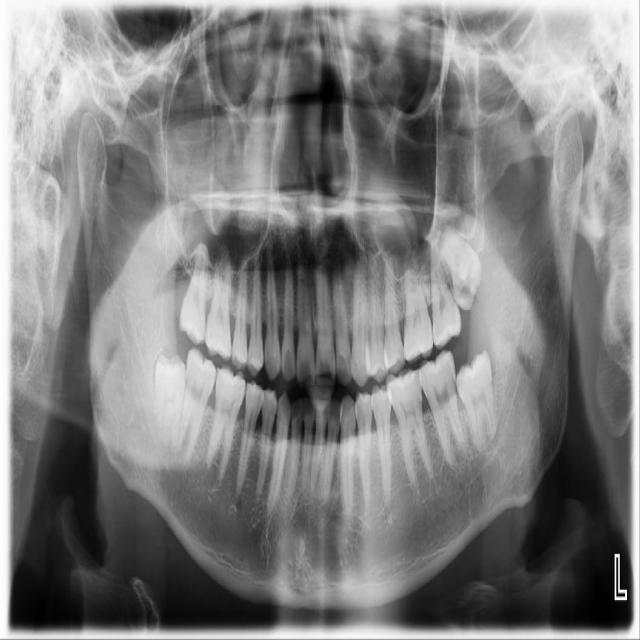52: (454, 283, 477, 305)
73: (618, 608, 626, 621)
BioHorizons Implant: (429, 233, 463, 349)
BioLife Implant: (430, 215, 493, 314)
Biomet 3i Implant: (452, 350, 501, 455)
Blue Sky Bio Implant: (414, 347, 472, 471)
Caries: (177, 237, 211, 346)
Implant: (174, 346, 220, 467)
Keystone Dental Implant: (151, 352, 187, 450)
